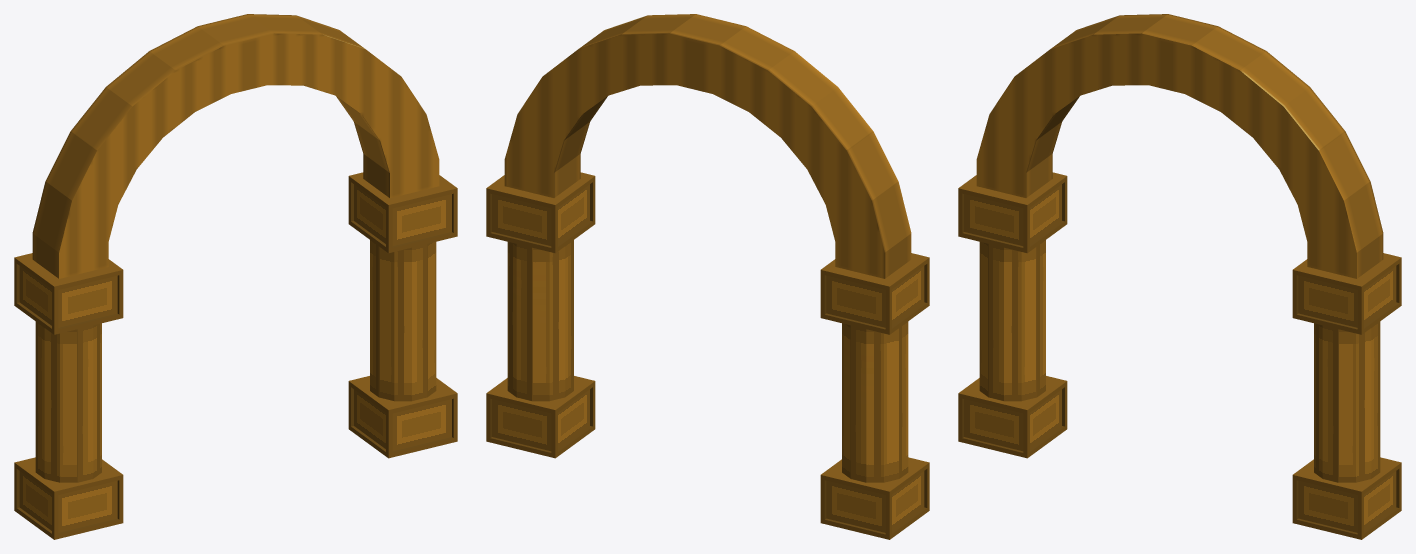
File: archway.fbx
3 views of the same model, side by side, from view 1: azimuth 30°, elevation 25°; view 2: azimuth 150°, elevation 25°; view 3: azimuth 330°, elevation 25° (orthographic).
Visible parts, largest first — view 1: arch, pillar2, pillar1, top1, base1, base2, top2; view 2: arch, pillar2, pillar1, top1, base1, base2, top2; view 3: arch, pillar1, pillar2, top2, base2, base1, top1.
Part boxes in pixels (left/top/right/bottom): arch: left=32, top=14, right=439, bottom=278; pillar2: left=370, top=240, right=436, bottom=401; pillar1: left=35, top=321, right=101, bottom=482; top1: left=14, top=253, right=123, bottom=334; base1: left=14, top=457, right=123, bottom=539; base2: left=348, top=376, right=457, bottom=458; top2: left=348, top=172, right=457, bottom=253; arch: left=504, top=14, right=911, bottom=278; pillar2: left=507, top=240, right=573, bottom=401; pillar1: left=842, top=321, right=908, bottom=482; top1: left=820, top=253, right=929, bottom=334; base1: left=820, top=457, right=929, bottom=539; base2: left=486, top=376, right=595, bottom=458; top2: left=486, top=172, right=595, bottom=253; arch: left=976, top=14, right=1383, bottom=278; pillar1: left=979, top=240, right=1045, bottom=401; pillar2: left=1314, top=321, right=1380, bottom=482; top2: left=1292, top=253, right=1401, bottom=334; base2: left=1292, top=457, right=1401, bottom=539; base1: left=958, top=376, right=1067, bottom=458; top1: left=958, top=172, right=1067, bottom=253.
Size of the model in its own units: 438 by 462 by 75.
